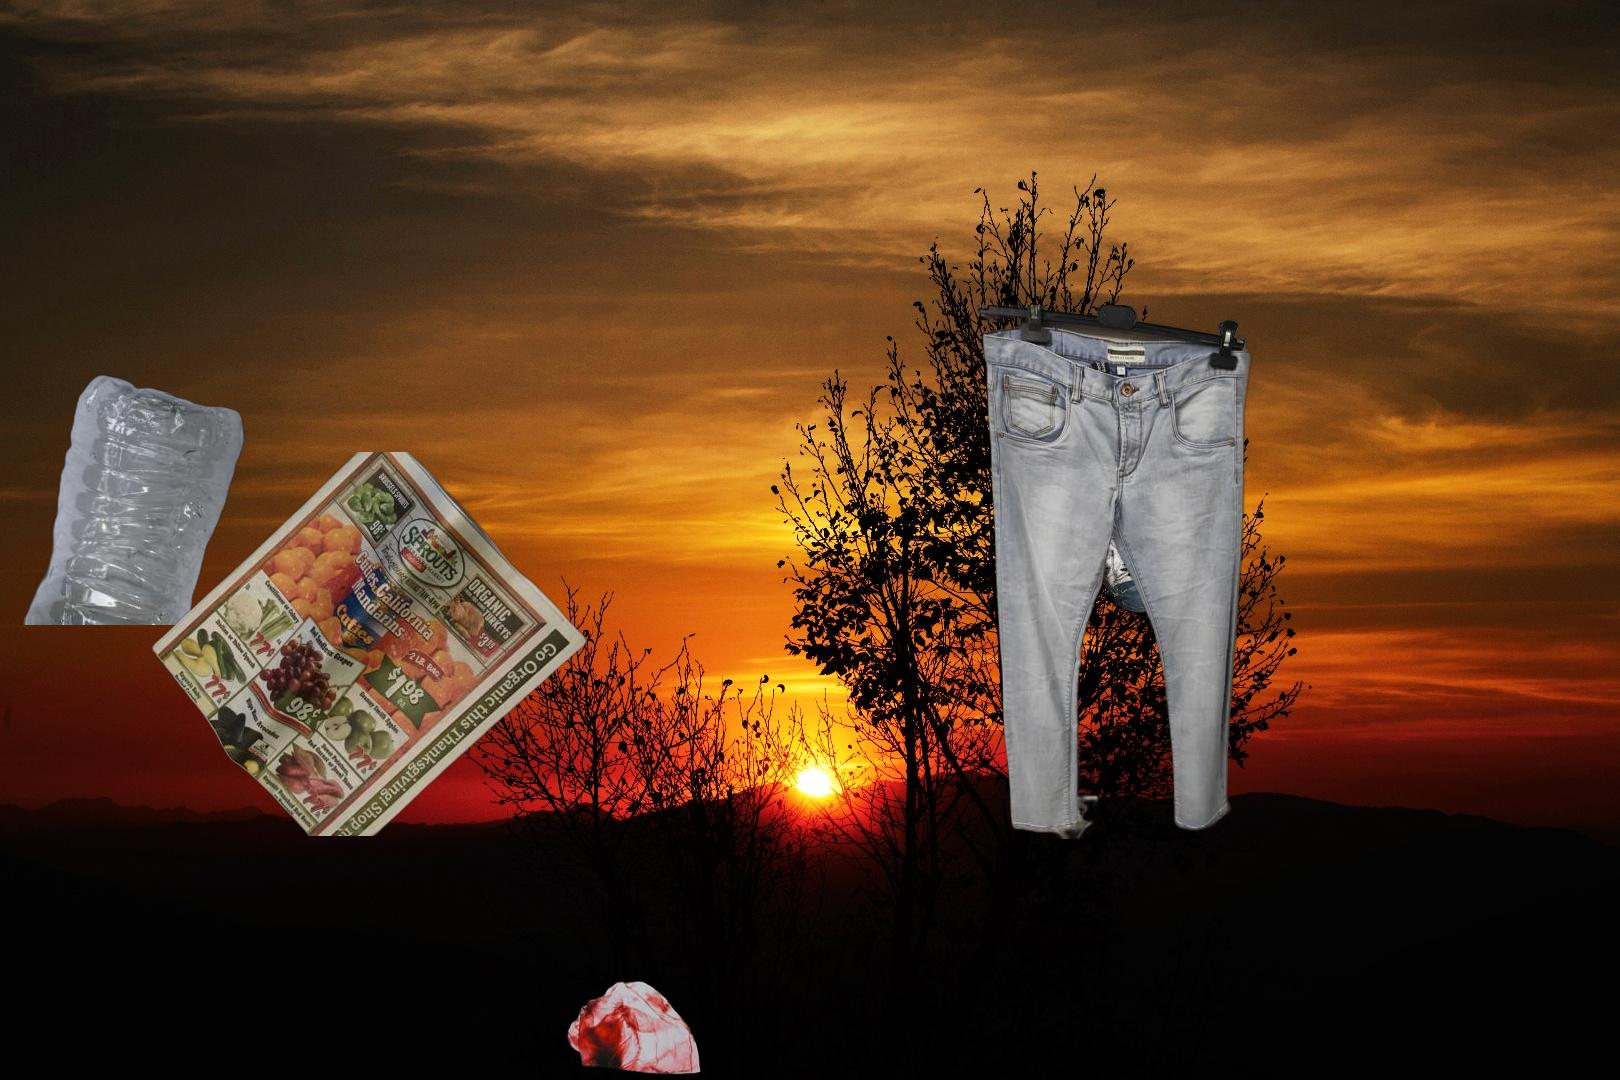clothes: (975, 305, 1255, 839)
paper: (148, 452, 592, 837)
plastic-bag: (564, 978, 703, 1076)
plastic-bottles: (19, 372, 250, 626)
shoes: (1094, 487, 1240, 616)
